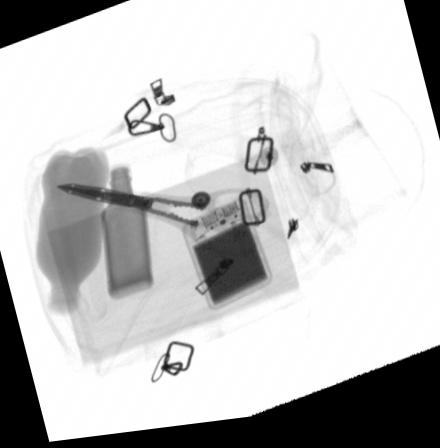Powerbank: (181, 200, 275, 318)
Scissors: (46, 180, 271, 262)
